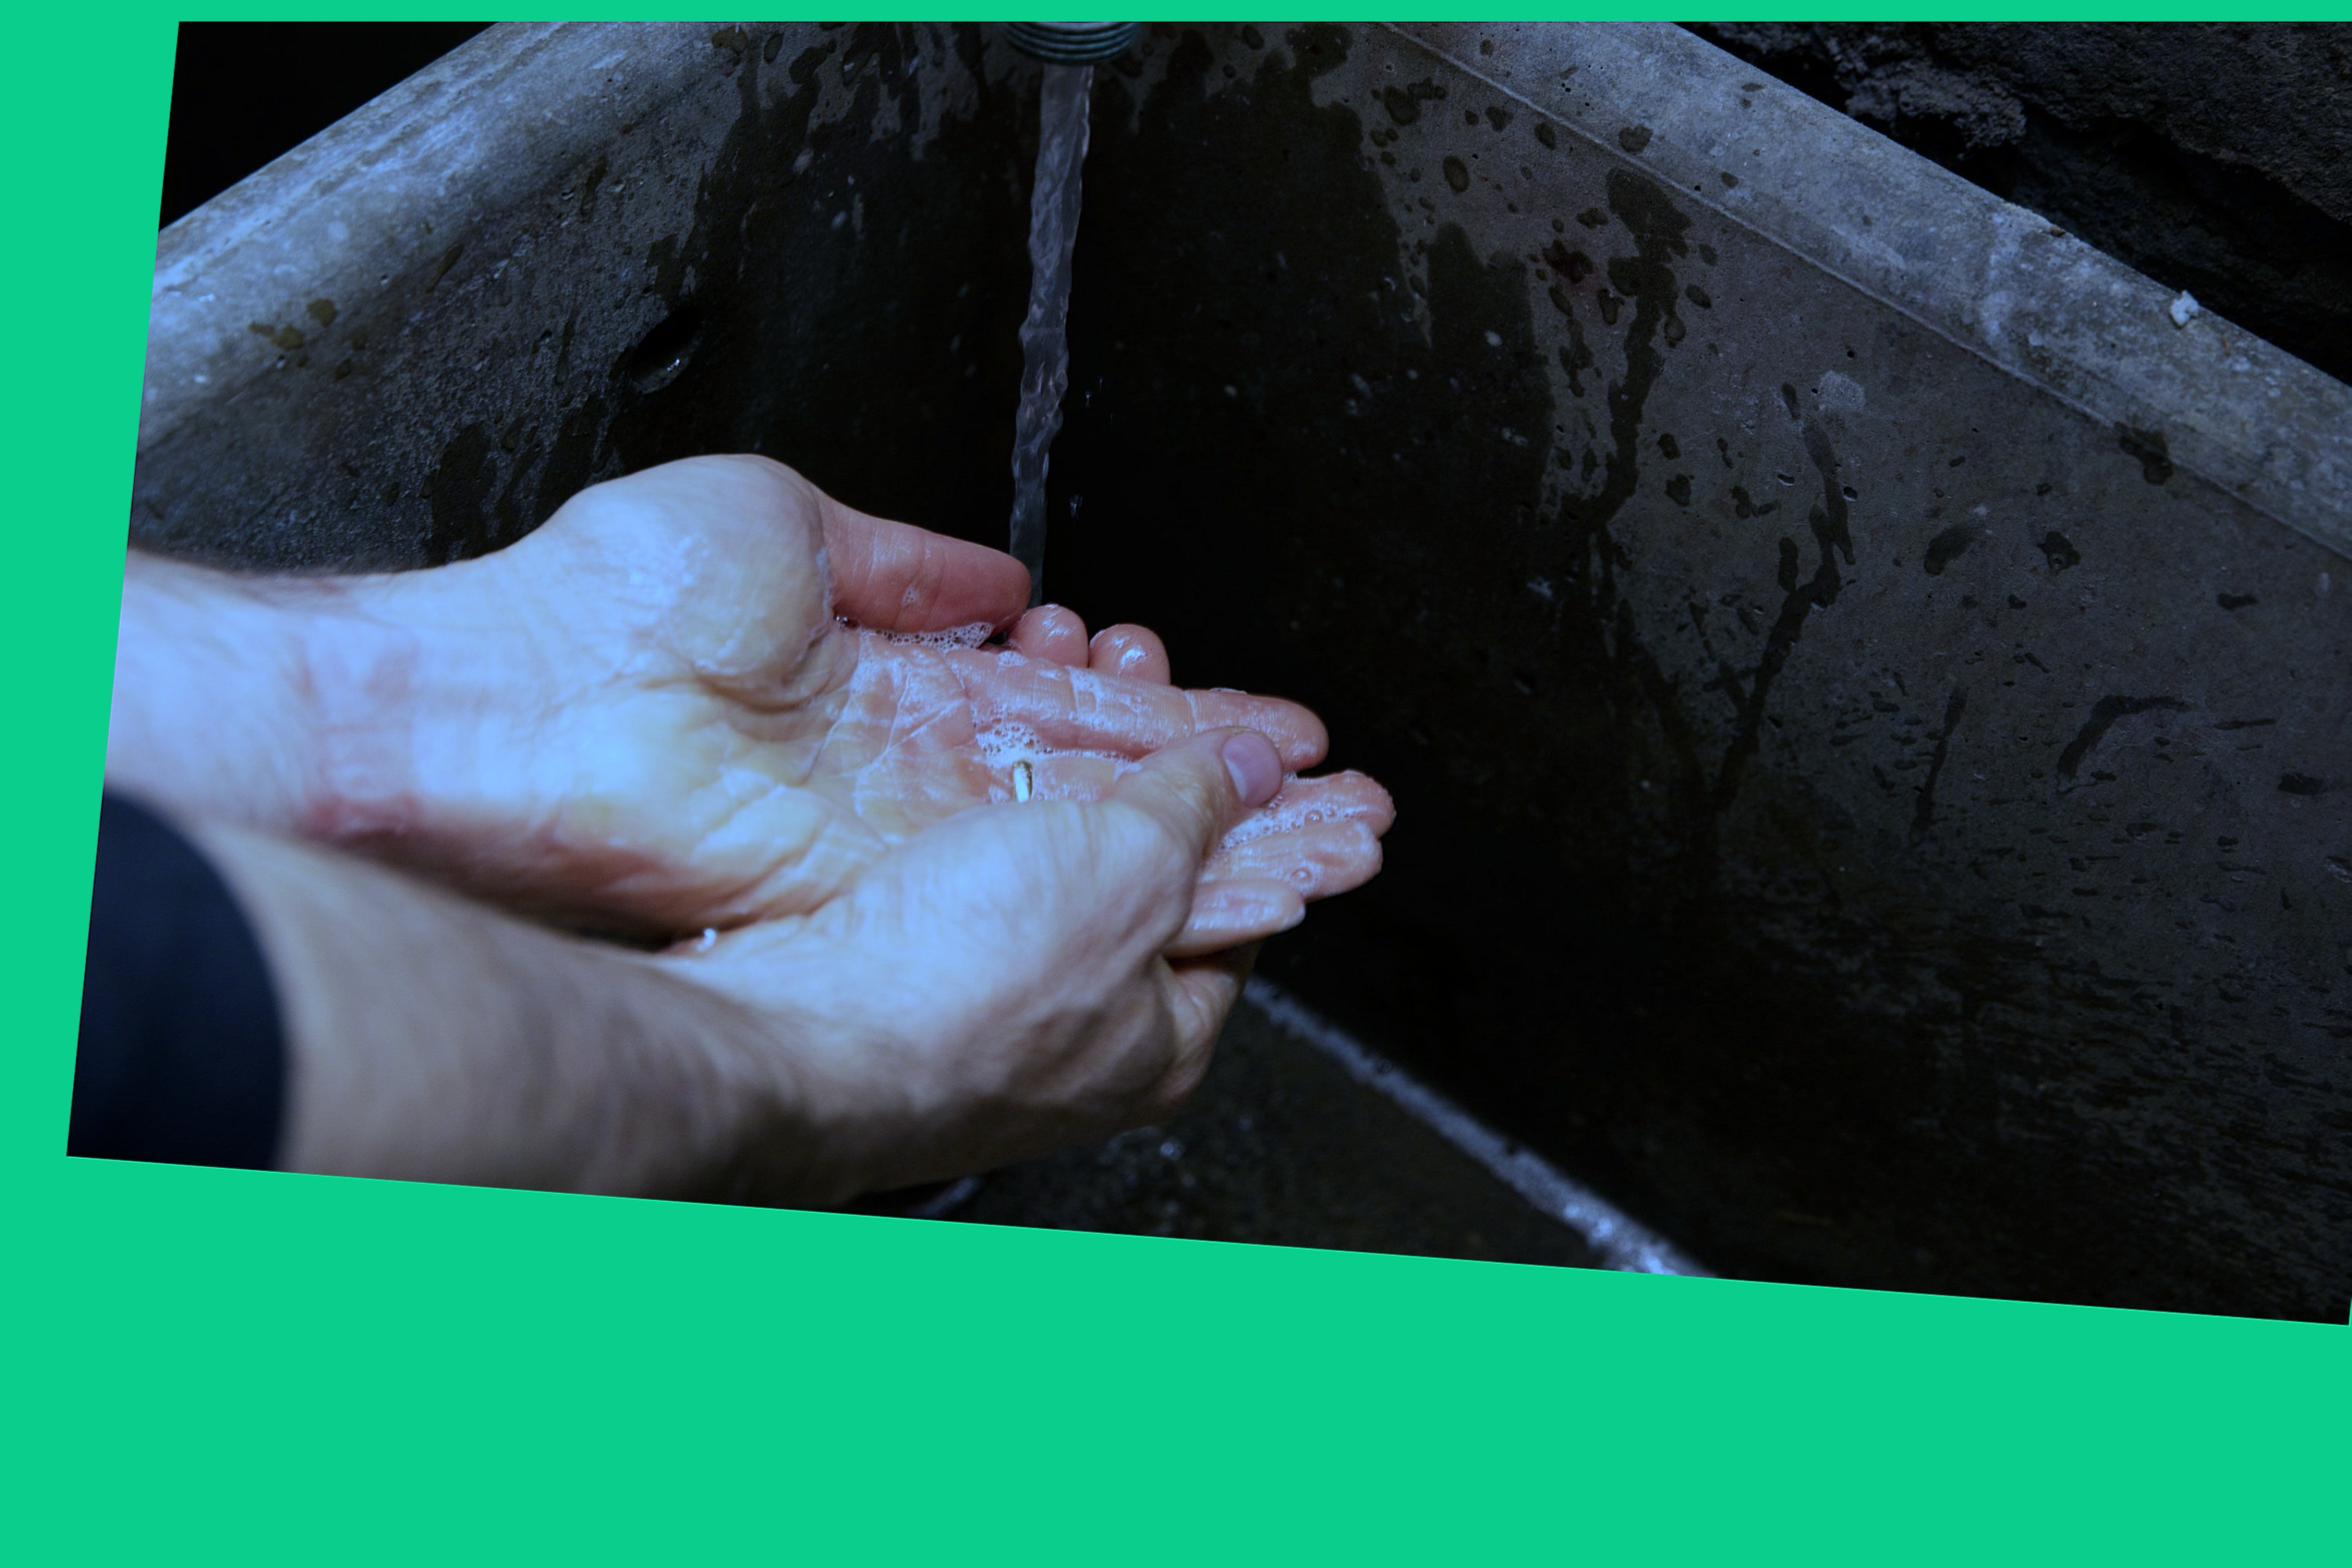washing hand: (294, 0, 1705, 1267)
